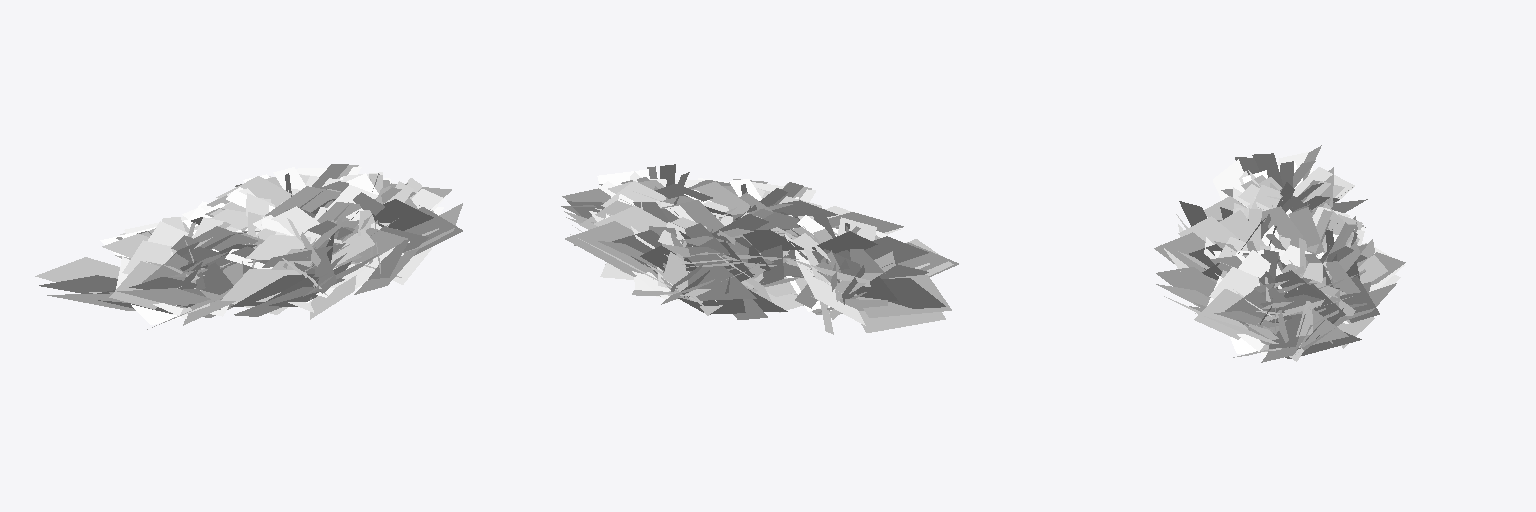
File: bush.obj
3 views of the same model, side by side, from view 1: azimuth 30°, elevation 25°; view 2: azimuth 150°, elevation 25°; view 3: azimuth 270°, elevation 25° (orthographic).
Visible parts, largest first — view 1: flower_bush09a; view 2: flower_bush09a; view 3: flower_bush09a.
Boxes of the visible parts, x1,y1,x2,y2 form: flower_bush09a: [35, 164, 462, 329]; flower_bush09a: [561, 164, 958, 334]; flower_bush09a: [1154, 145, 1405, 362].
Size of the model in its own units: 6.62 by 1.62 by 3.59.